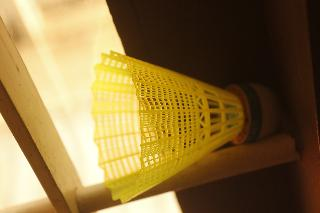shuttlecock: (91, 50, 279, 203)
